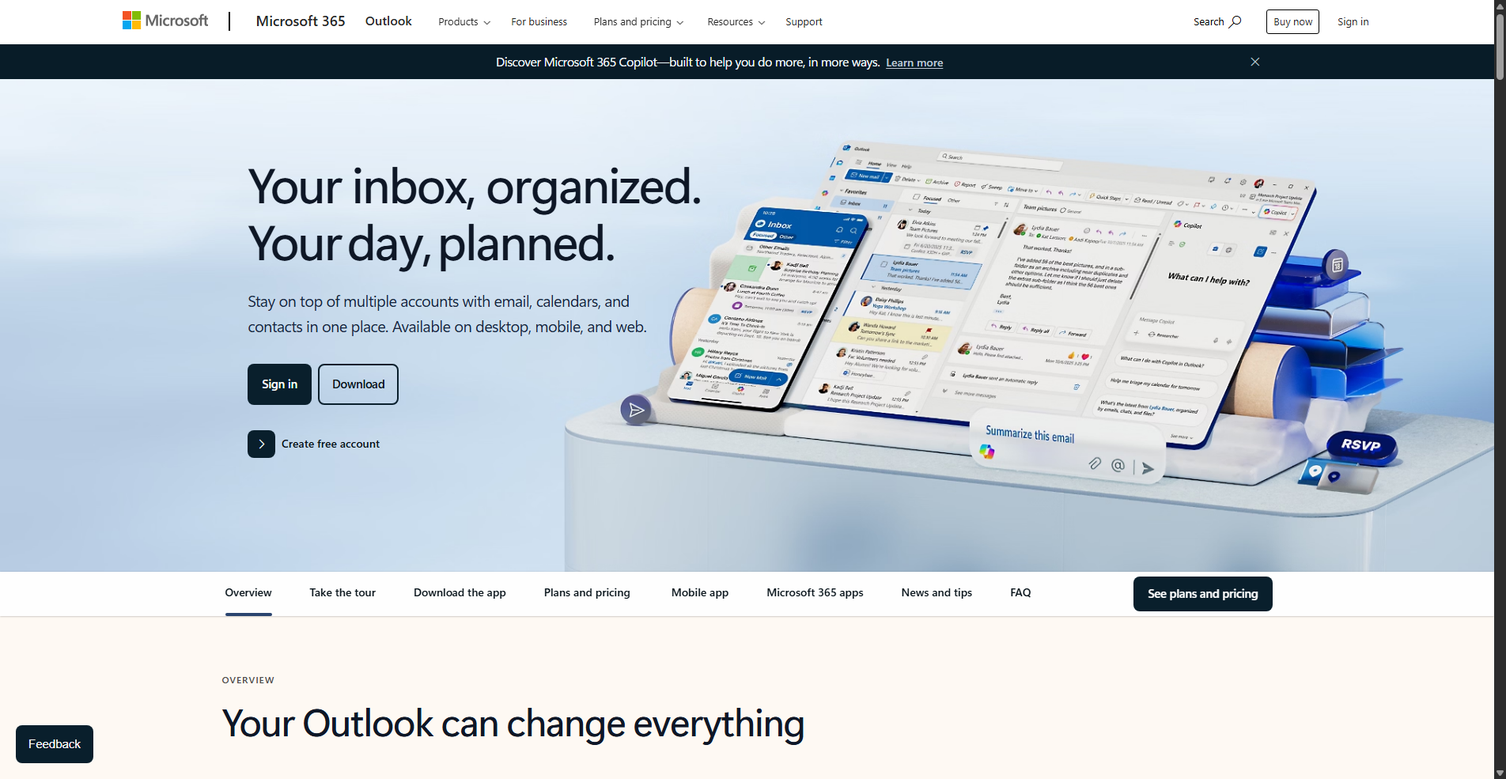button: (248, 364, 715, 405), (1134, 577, 1272, 611), (580, 1, 696, 41), (318, 364, 399, 405), (694, 1, 777, 41), (425, 1, 503, 41), (16, 725, 93, 763), (248, 364, 312, 405), (1187, 2, 1248, 38), (1148, 584, 1258, 603), (329, 768, 489, 779), (495, 768, 628, 779), (222, 768, 323, 779), (332, 375, 385, 394), (1230, 51, 1272, 73), (248, 430, 275, 458), (262, 375, 297, 394)
dropdown: (222, 572, 1134, 616)
link: (114, 1, 223, 43), (248, 1, 353, 43), (248, 430, 380, 458), (767, 584, 863, 613), (414, 584, 506, 613), (504, 1, 574, 39), (544, 584, 633, 613), (358, 2, 419, 40), (901, 584, 972, 613), (310, 584, 376, 613), (779, 1, 829, 39), (1331, 1, 1376, 39), (671, 584, 729, 613), (225, 584, 272, 613), (1267, 9, 1320, 34), (886, 54, 943, 72), (1010, 584, 1031, 613)
menu_item: (580, 0, 691, 41), (694, 0, 773, 41), (425, 0, 498, 41), (501, 0, 577, 39), (355, 1, 422, 40), (1259, 1, 1328, 35), (776, 0, 833, 39), (1328, 0, 1379, 39)
